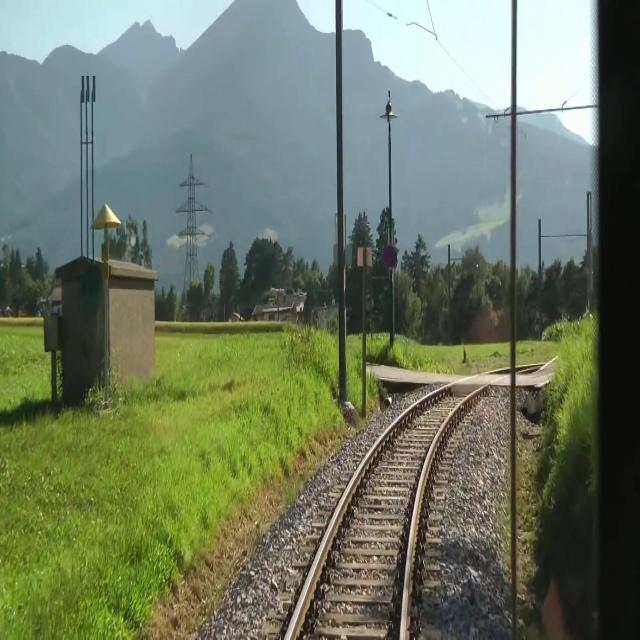rail-track: (289, 371, 510, 639)
